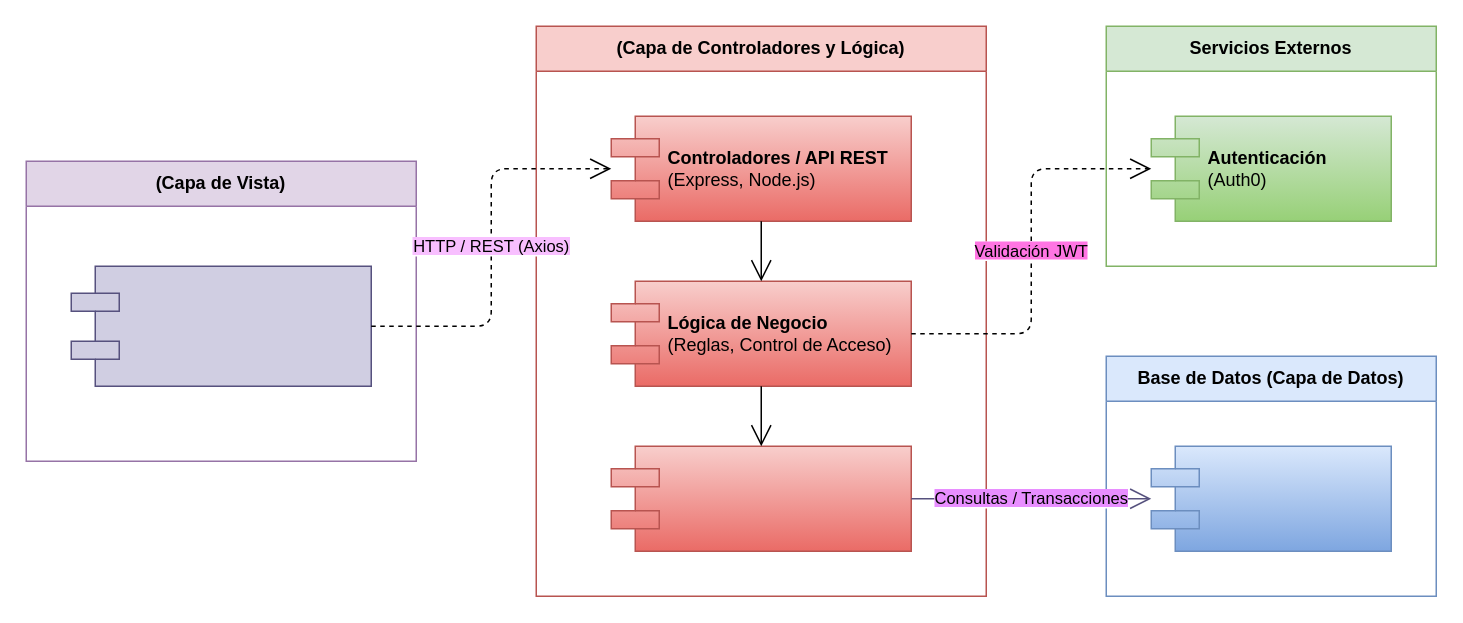
This 1463x623 diagram has some shape labels left out. Here are the shapes that lost their labels. From the top down, the centre of each, then its label:
At [220,325]: "Interfaz de Usuario (React, Vite, Bootstrap 5)".
At [760,498]: "Acceso a Datos (Prisma ORM)".
At [1270,498]: "Almacenamiento (MySQL)".
